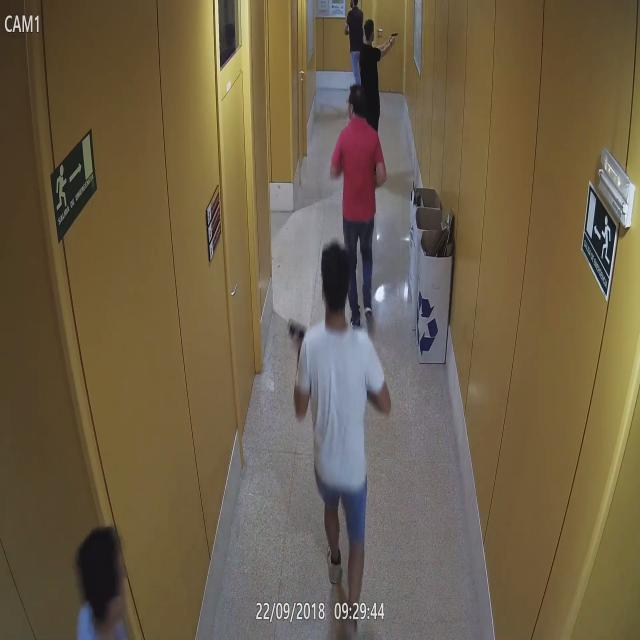Gun: (388, 28, 399, 48)
